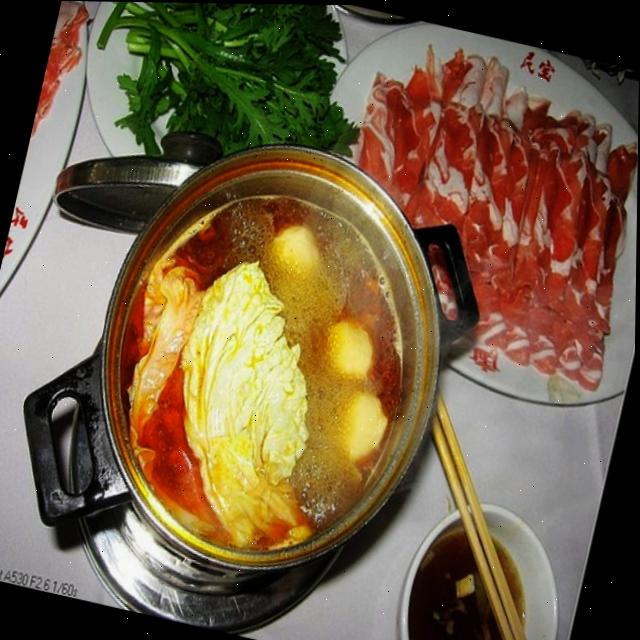汤锅炖物: (25, 101, 516, 619)
